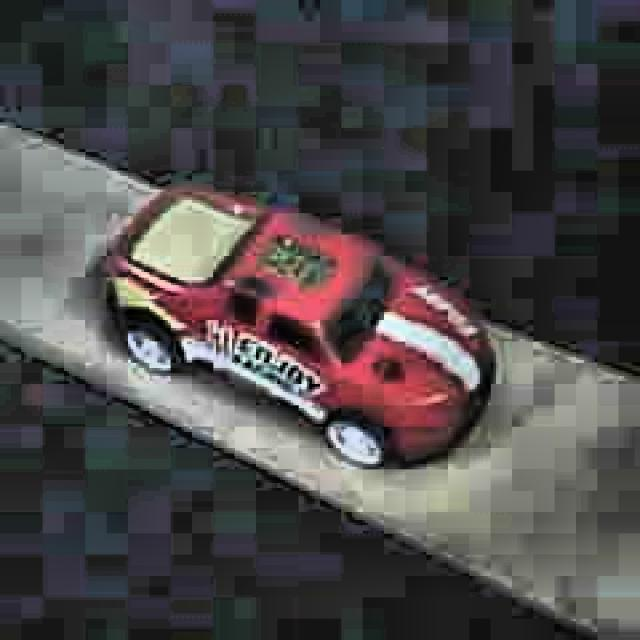car: (102, 175, 497, 473)
